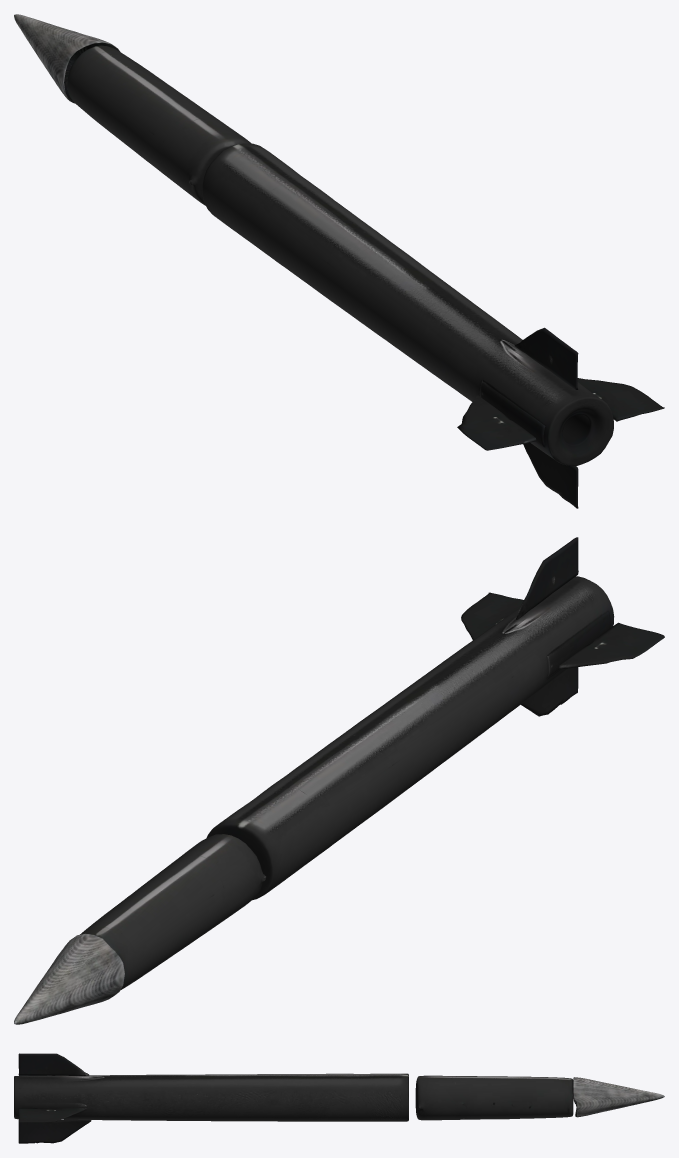
3 views of the same model, one above another, from view 1: azimuth 30°, elevation 25°; view 2: azimuth 150°, elevation 25°; view 3: azimuth 270°, elevation 25° (orthographic). The views are drawn at different scales.
Parts seen in each view (by area): view 1: Object_2; view 2: Object_2; view 3: Object_2.
Part boxes in pixels (bbox=[...]): Object_2: bbox=[14, 14, 664, 508]; Object_2: bbox=[14, 537, 664, 1024]; Object_2: bbox=[14, 1053, 664, 1143].
Size of the model in its own units: 0.3436 by 0.2892 by 1.9.
1 material, 1 textured.
